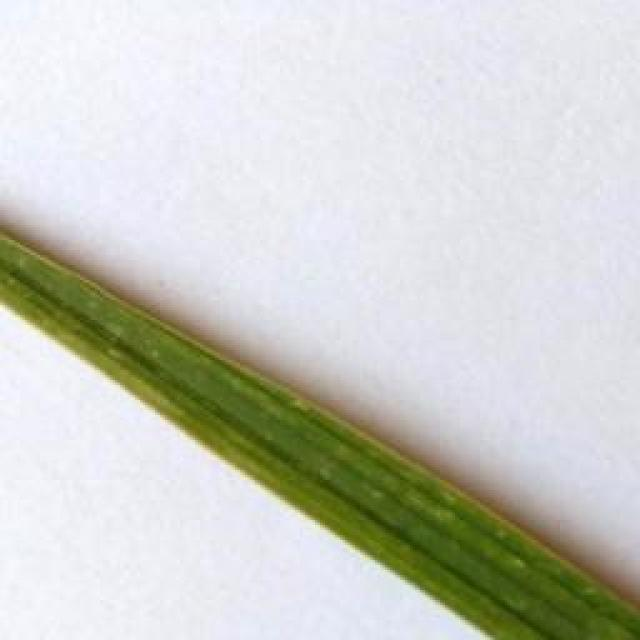Healthy-Plant: (0, 229, 640, 640)
